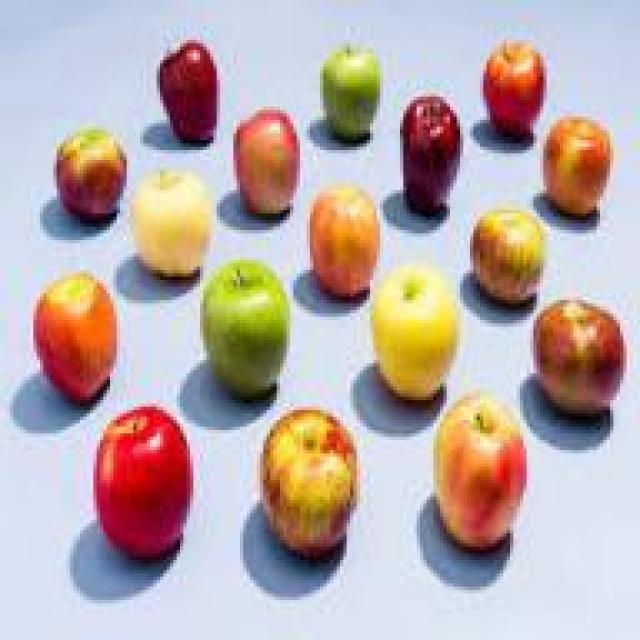apple: (433, 390, 527, 540), (96, 406, 196, 546), (263, 406, 357, 546), (200, 256, 290, 396), (530, 293, 630, 417), (370, 270, 457, 403), (30, 270, 123, 393), (466, 200, 546, 310), (130, 170, 210, 277), (46, 124, 126, 224), (397, 94, 463, 214), (306, 186, 376, 296), (313, 33, 387, 137), (477, 44, 553, 144), (153, 37, 220, 150), (543, 110, 610, 223), (230, 110, 297, 217)
